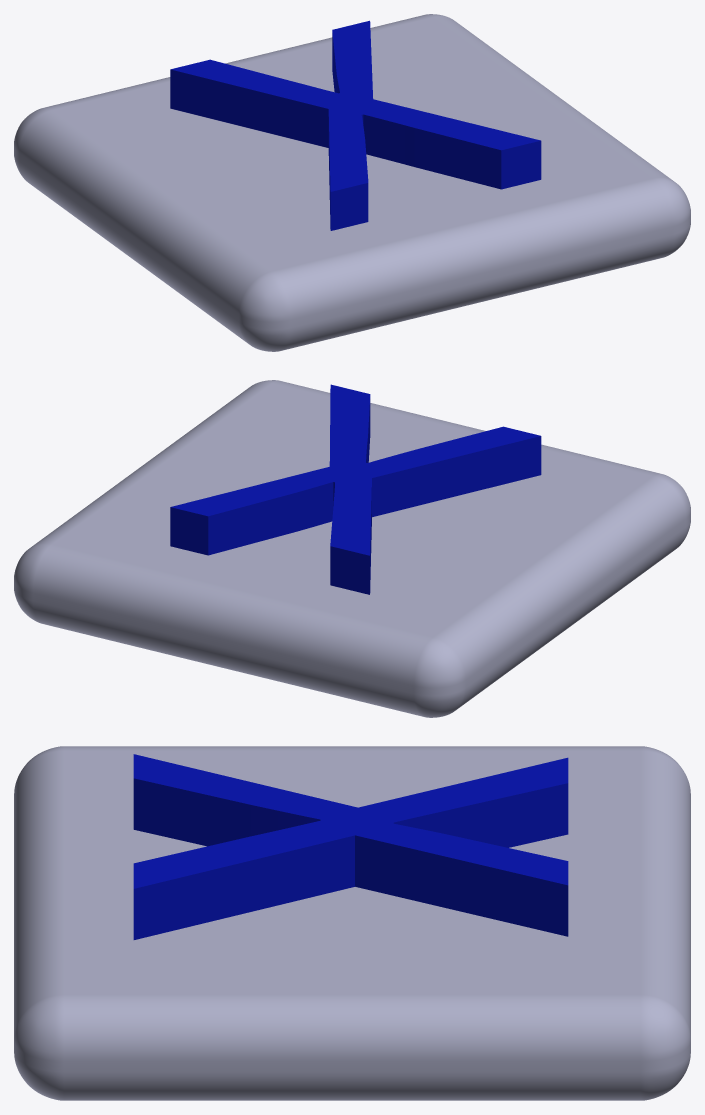
File: buttonMultiply.glb
3 views of the same model, one above another, from view 1: azimuth 30°, elevation 25°; view 2: azimuth 150°, elevation 25°; view 3: azimuth 270°, elevation 25° (orthographic). The views are drawn at different scales.
Visible parts, largest first — view 1: Box, 3D Text - X; view 2: Box, 3D Text - X; view 3: Box, 3D Text - X.
Boxes of the visible parts, x1=… form: Box: x1=14, y1=14, x2=690, y2=351; 3D Text - X: x1=170, y1=20, x2=541, y2=230; Box: x1=14, y1=380, x2=690, y2=717; 3D Text - X: x1=170, y1=384, x2=541, y2=594; Box: x1=14, y1=746, x2=690, y2=1100; 3D Text - X: x1=133, y1=754, x2=568, y2=939.
Bounding box in the file's own units: 0.1 × 0.0249 × 0.1.
